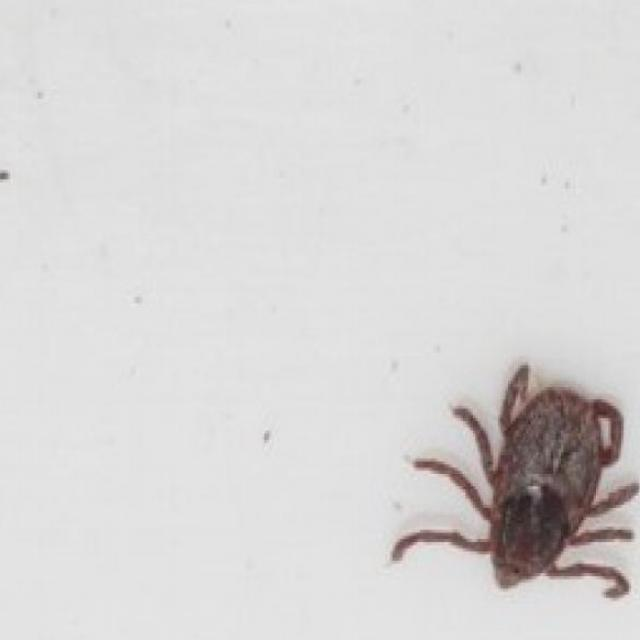Rhipicephalus Sanguineus-F: (390, 359, 640, 601)
